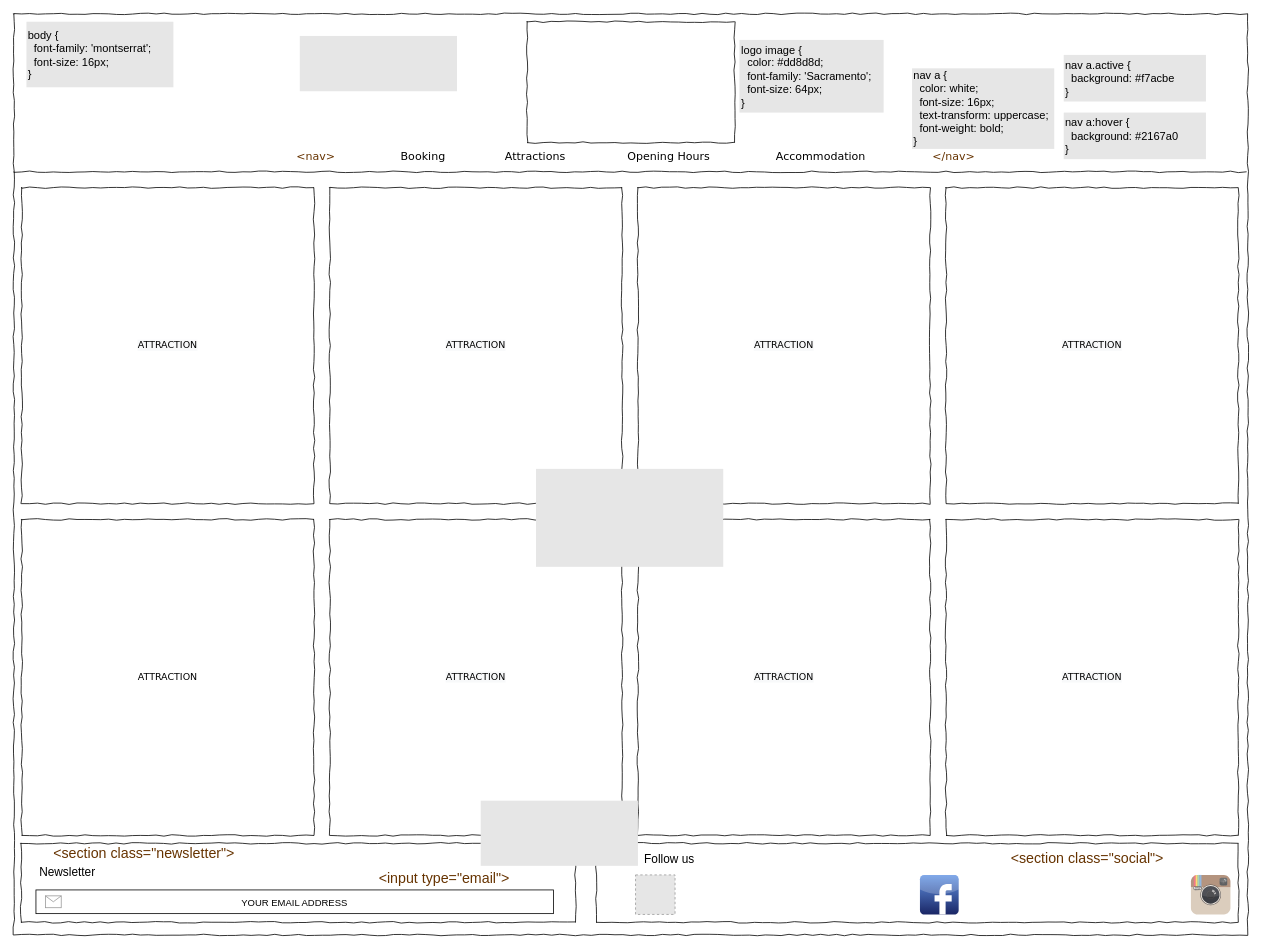
The diagram is 1262 pixels wide and 949 high, and some of its shapes have lost their labels. Grey dashed boxes stand in for pictures. Here are the shapes that lost their labels. From the top down, the centre of each, then its label:
point 378,63: header { background-color: #9ccef7 }
point 630,82: LOGO <img>
point 629,517: attraction description text h4 { color: black; font-size: 16px; }
point 559,832: footer{ background-color: #9ccef7; color: white; }
